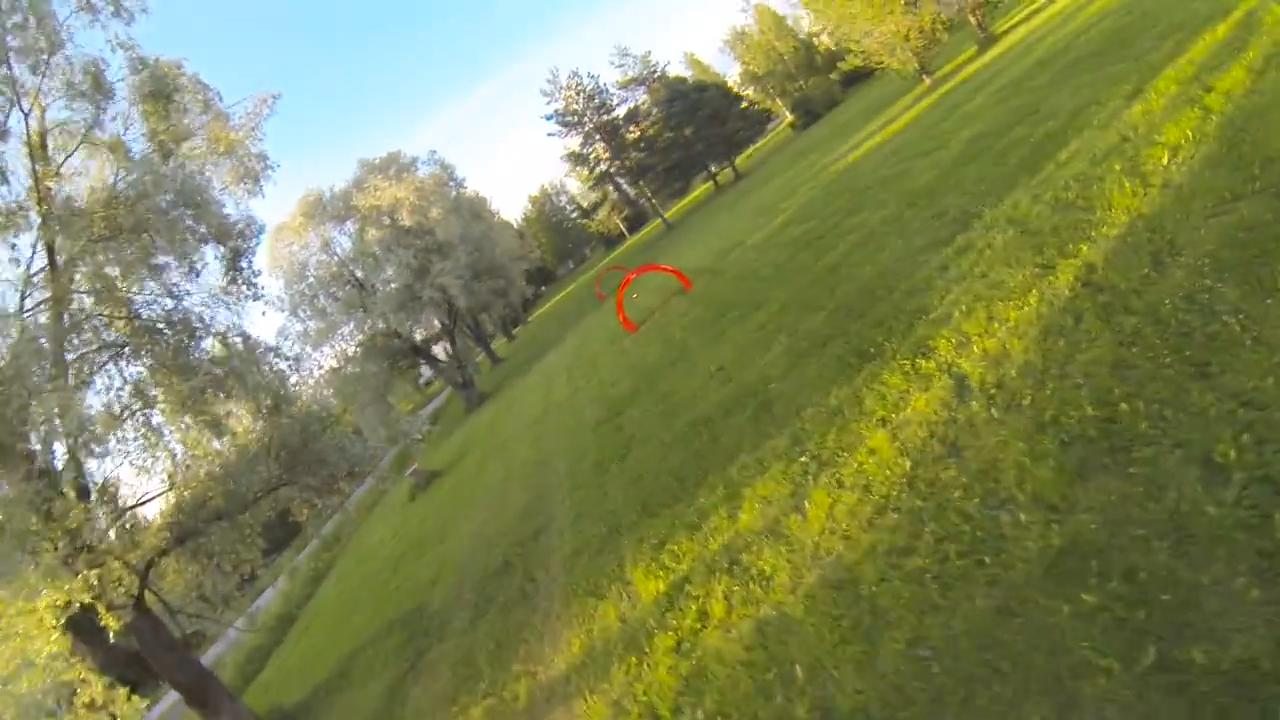gate: (614, 263, 693, 333)
